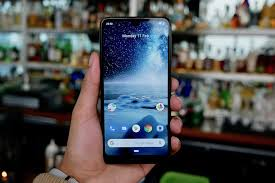nokia: (98, 14, 178, 169)
